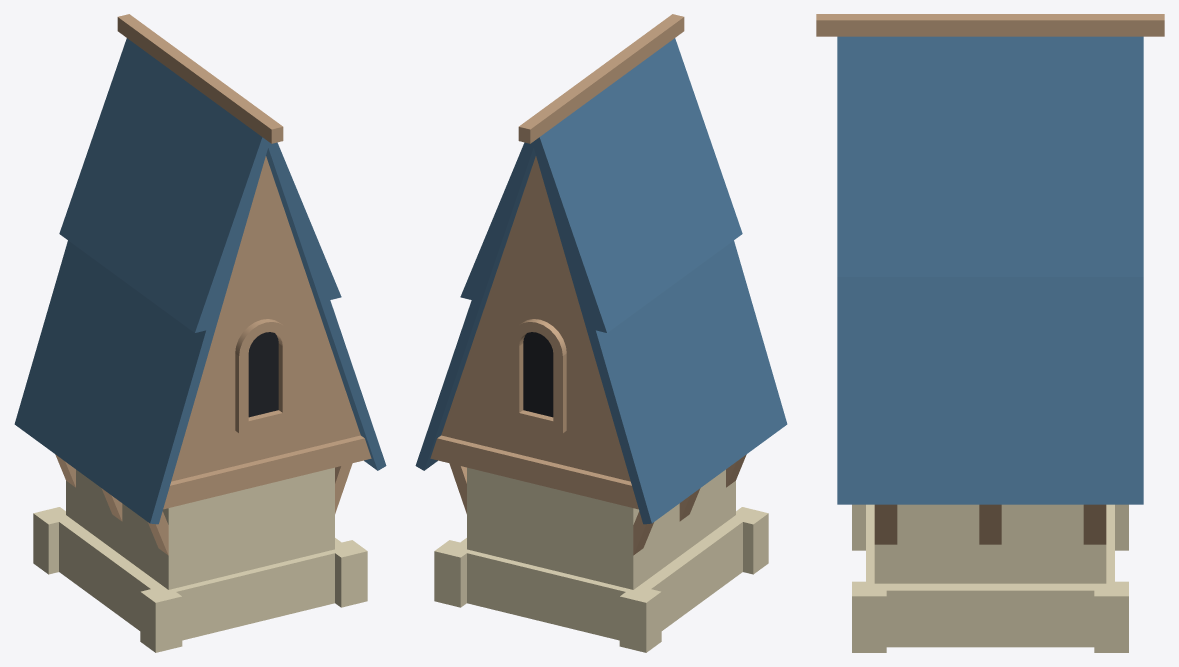
File: towerSlantRoof_exclusive.fbx
3 renders of one model, left to right at view 1: azimuth 30°, elevation 25°; view 2: azimuth 150°, elevation 25°; view 3: azimuth 270°, elevation 25°, orthographic. The views are drawn at different scales.
Visible parts, largest first — view 1: towerSlantRoof_exclusive; view 2: towerSlantRoof_exclusive; view 3: towerSlantRoof_exclusive.
Boxes of the visible parts, x1,y1,x2,y2 form: towerSlantRoof_exclusive: (14,14,386,652); towerSlantRoof_exclusive: (415,14,787,652); towerSlantRoof_exclusive: (816,14,1164,652).
Size of the model in its own units: 10.37 by 21.4 by 11.7.
